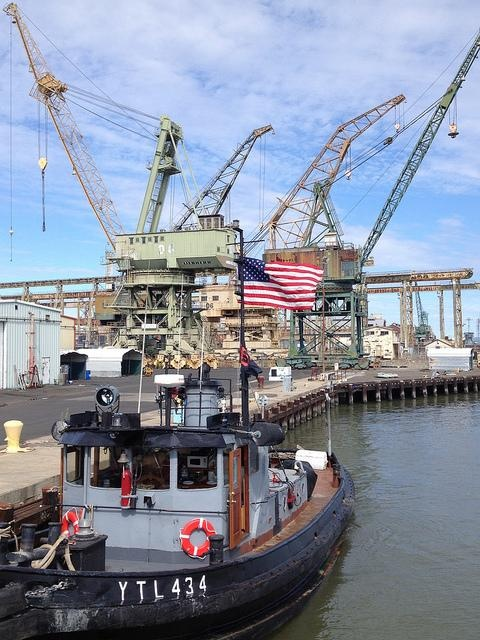otherboat: (5, 345, 365, 630)
